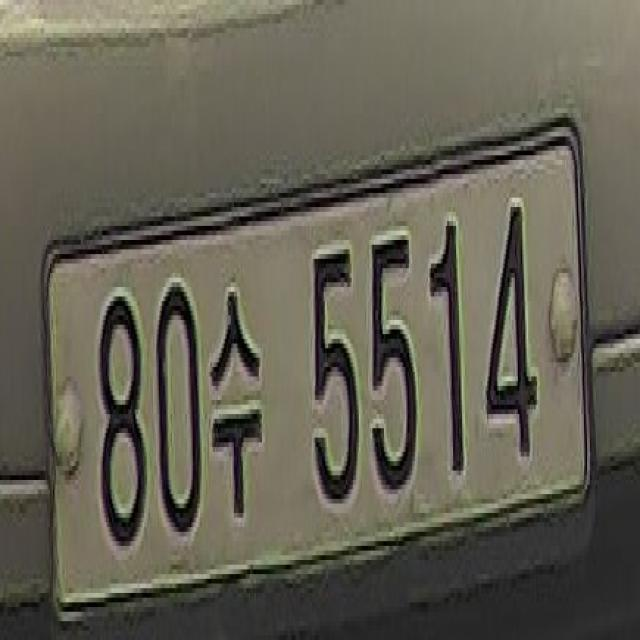plat: (41, 109, 595, 617)
